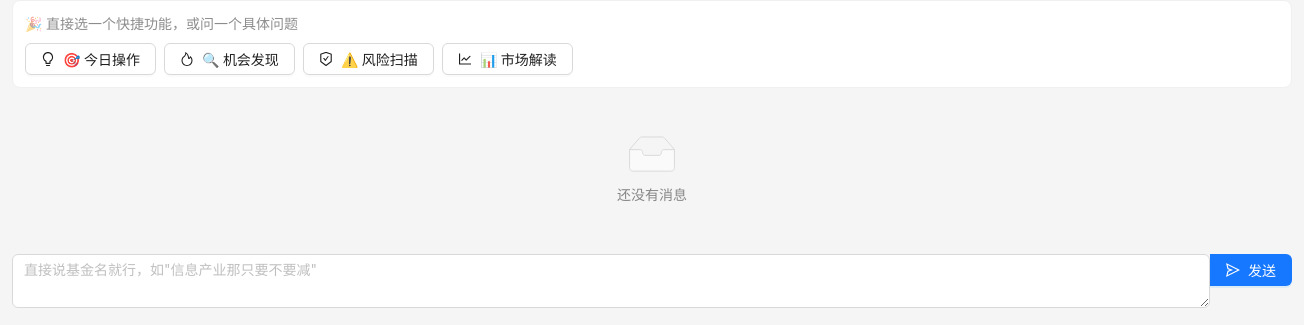
Test: ConversationView › renders messages as they arrive from poll
# 触发一次 ask 才会开始 poll
Step 1. Click the button "🎯 今日操作" → (90, 59), box 25,43 -> 156,75
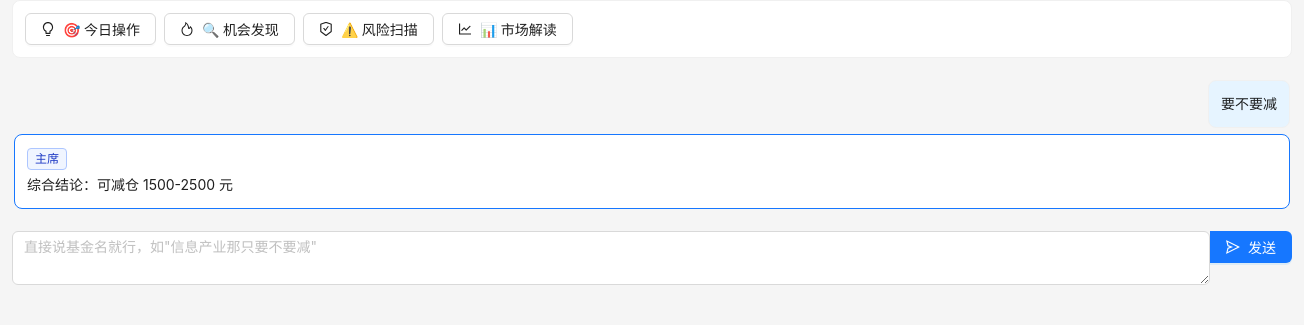
Now the element with test id "bubble-text" is shown, box 1208,80 -> 1290,128
Now the element with test id "bubble-chair_summary" shows "可减仓 1500-2500", box 27,176 -> 233,193
